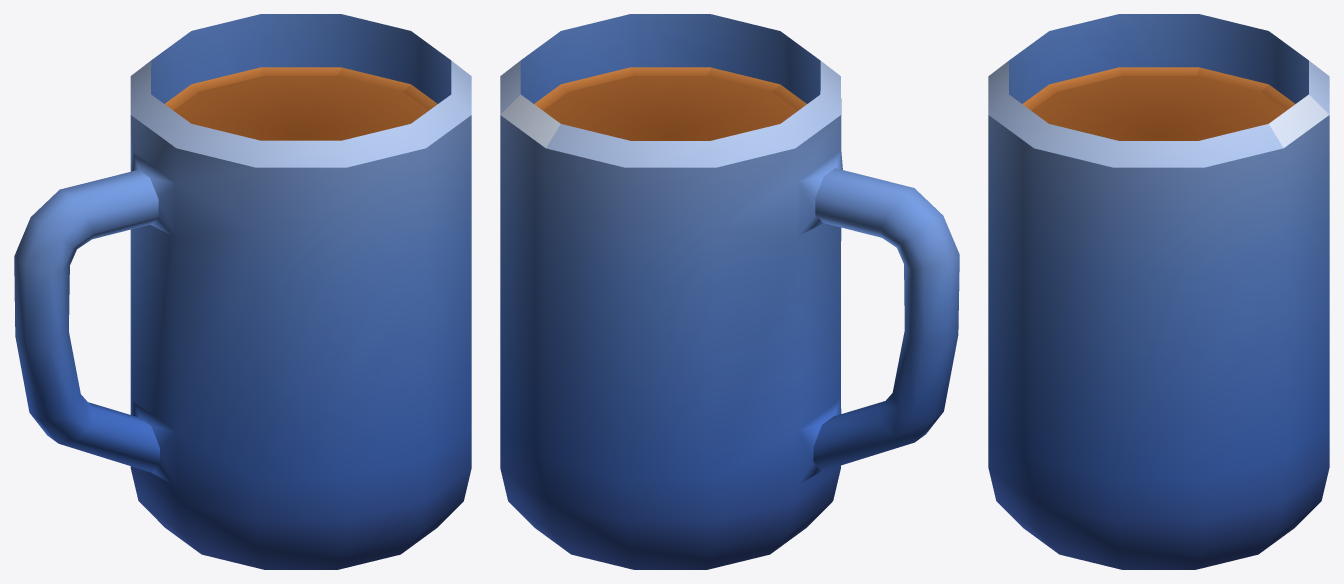
File: m_GlassMug01_Tea03.fbx
3 renders of one model, left to right at view 1: azimuth 30°, elevation 25°; view 2: azimuth 150°, elevation 25°; view 3: azimuth 270°, elevation 25°, orthographic.
Parts seen in each view (by area): view 1: m_GlassMug01_Tea03; view 2: m_GlassMug01_Tea03; view 3: m_GlassMug01_Tea03.
Boxes of the visible parts, x1,y1,x2,y2 form: m_GlassMug01_Tea03: (14, 14, 471, 569); m_GlassMug01_Tea03: (500, 14, 959, 569); m_GlassMug01_Tea03: (988, 14, 1329, 569).
Size of the model in its own units: 11.37 by 10.99 by 7.81.
